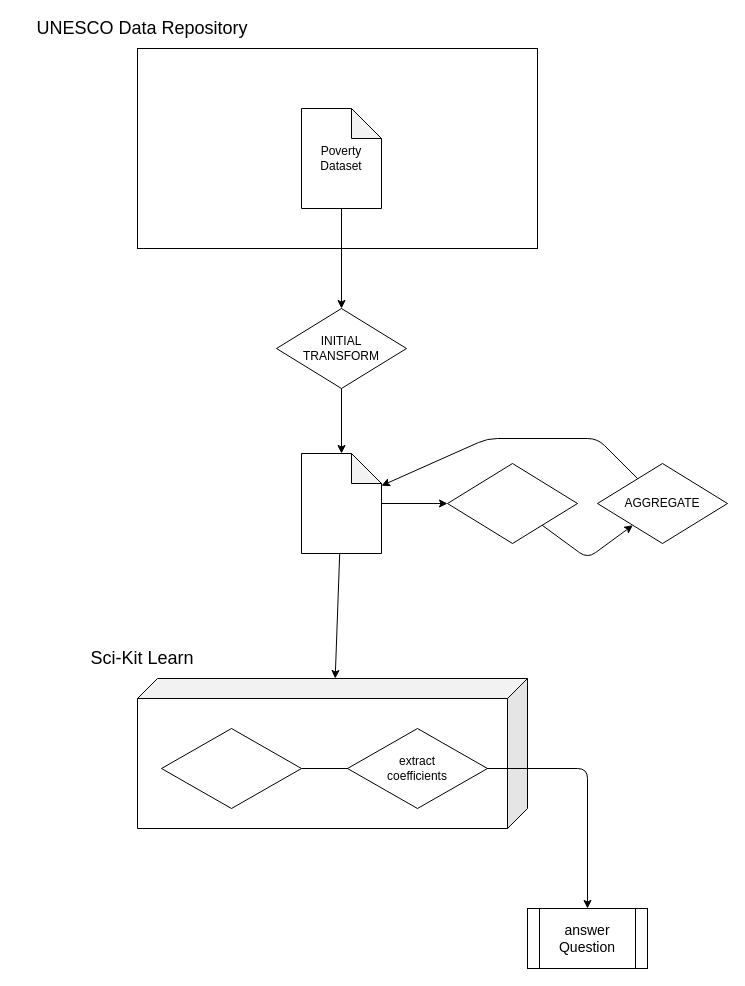
Image size: 745x986. Some labels were removed from this diagram. The centre of each missing label's shape, as x and y in pixels:
"CLEAN" belongs at point (512, 503).
"Custom Dataset" belongs at point (341, 503).
"predict poverty" belongs at point (231, 768).
